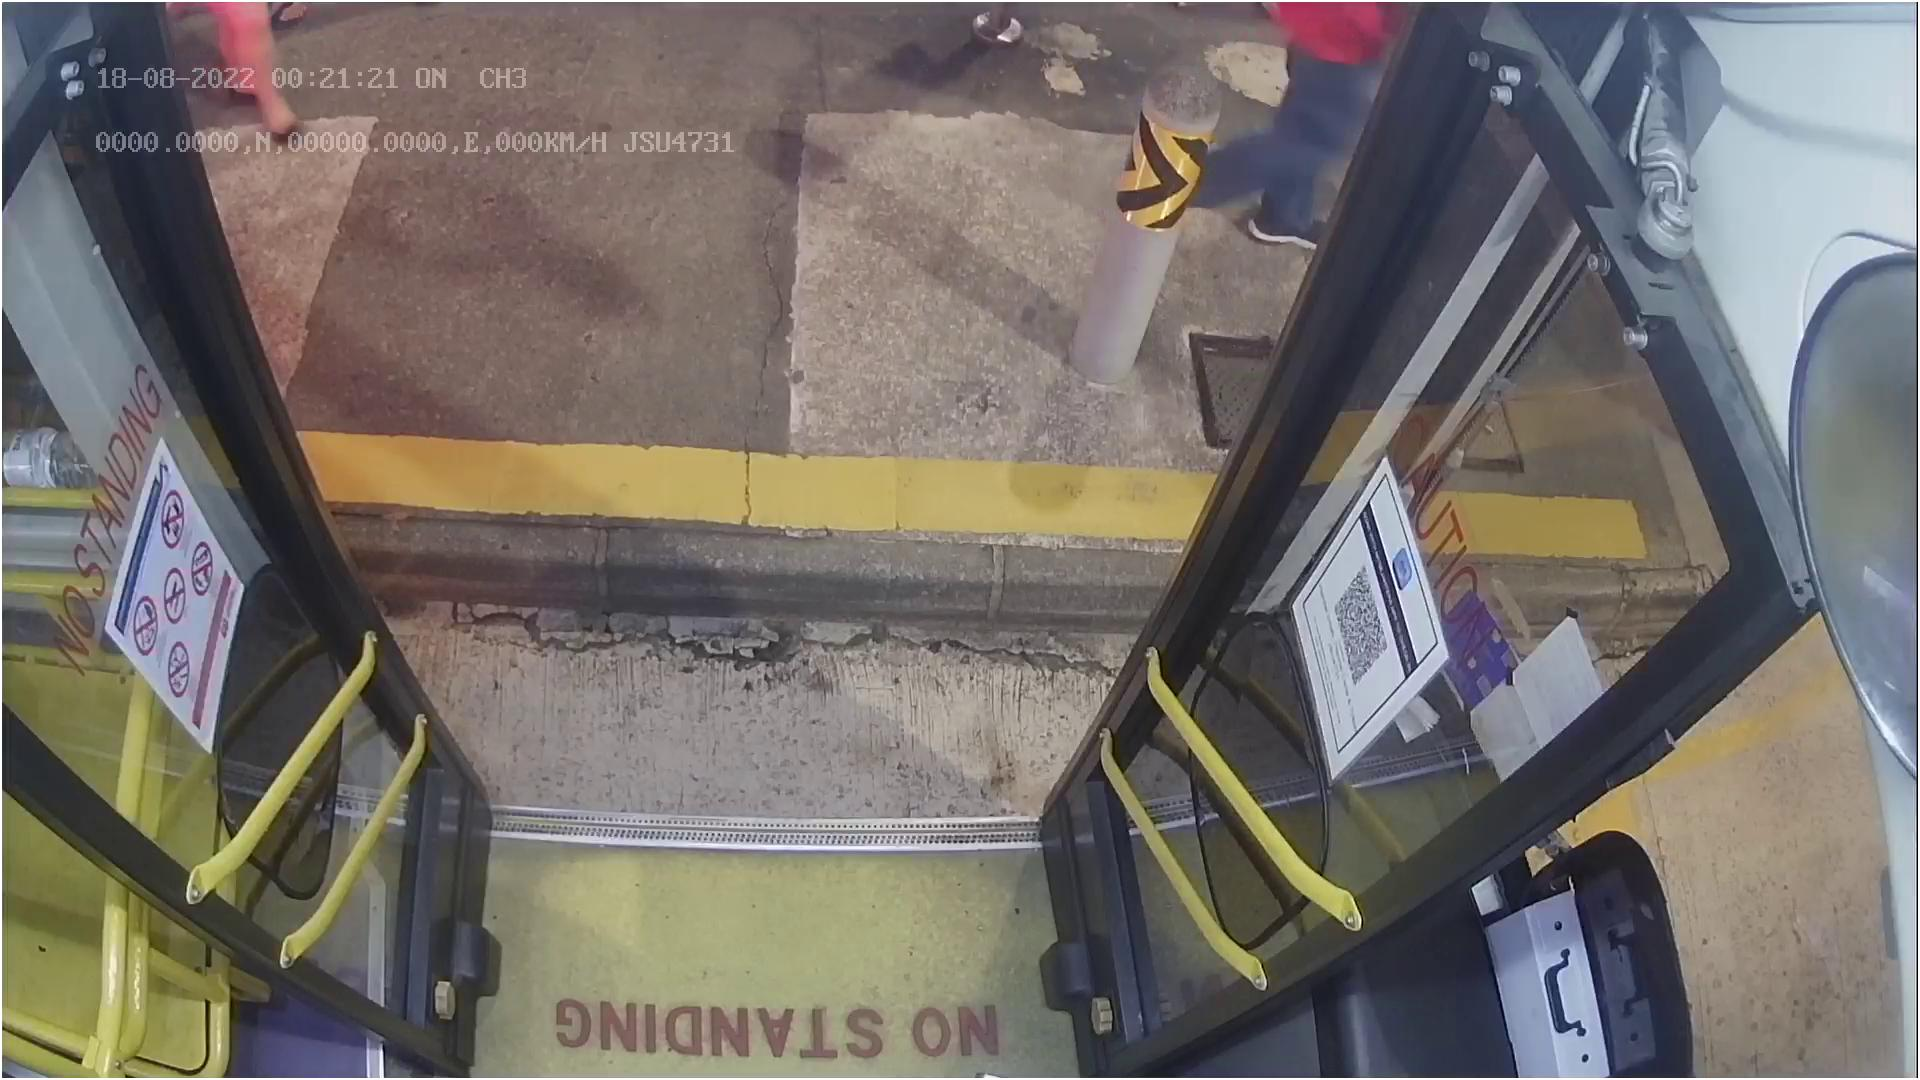open: (170, 0, 1394, 166)
